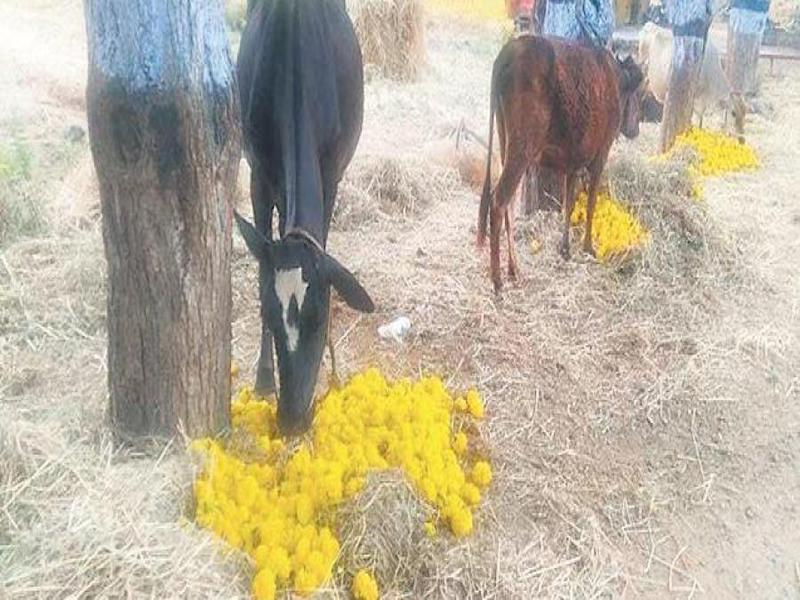flowers: (177, 368, 525, 600), (665, 127, 771, 199)
